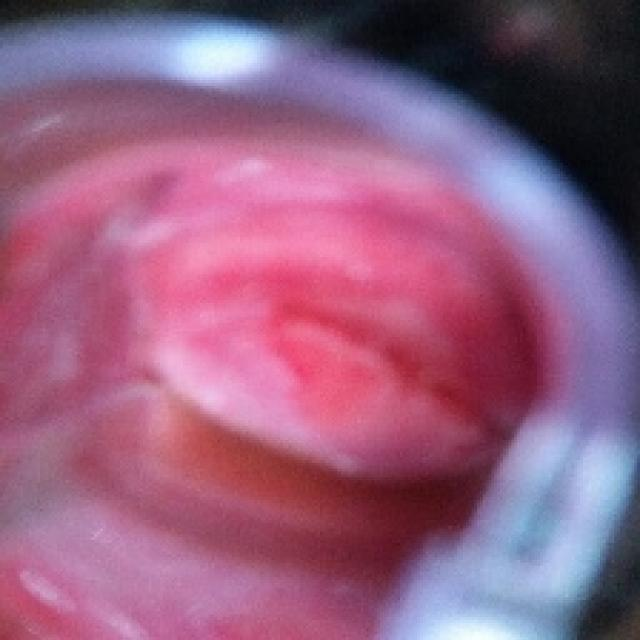type-3: (0, 95, 498, 604)
